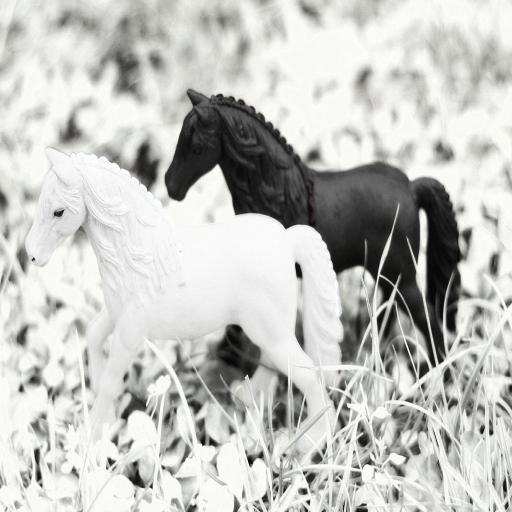horse: (24, 148, 344, 460), (163, 88, 464, 368)
